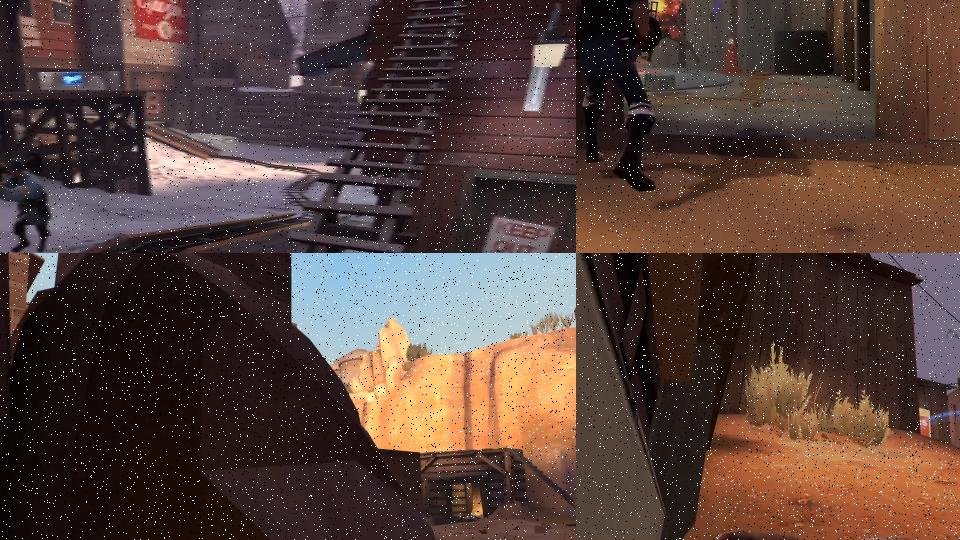Enemy: (576, 0, 662, 194), (0, 153, 54, 253), (640, 0, 701, 63)
